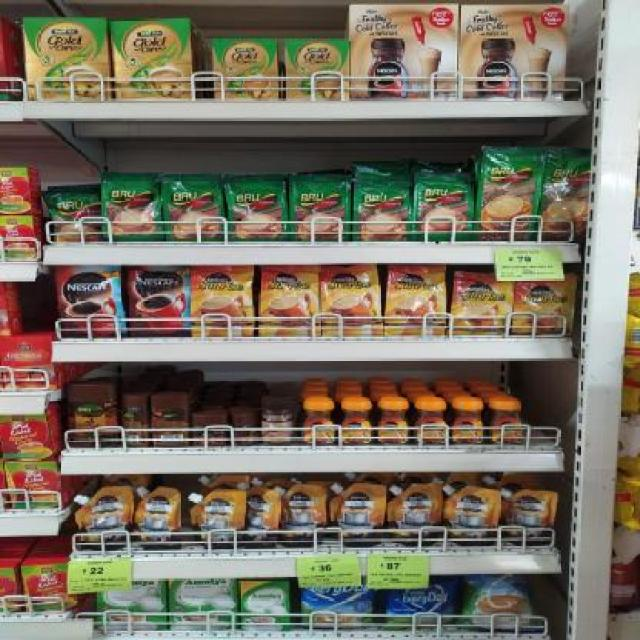Coffee: (57, 265, 120, 338), (193, 265, 252, 337), (128, 266, 190, 334), (261, 265, 319, 337), (388, 266, 446, 336), (322, 266, 378, 336), (454, 273, 510, 335), (516, 280, 573, 334), (412, 402, 450, 446), (488, 402, 523, 444), (302, 402, 335, 446), (339, 402, 372, 446), (376, 403, 409, 445), (452, 403, 485, 445)
